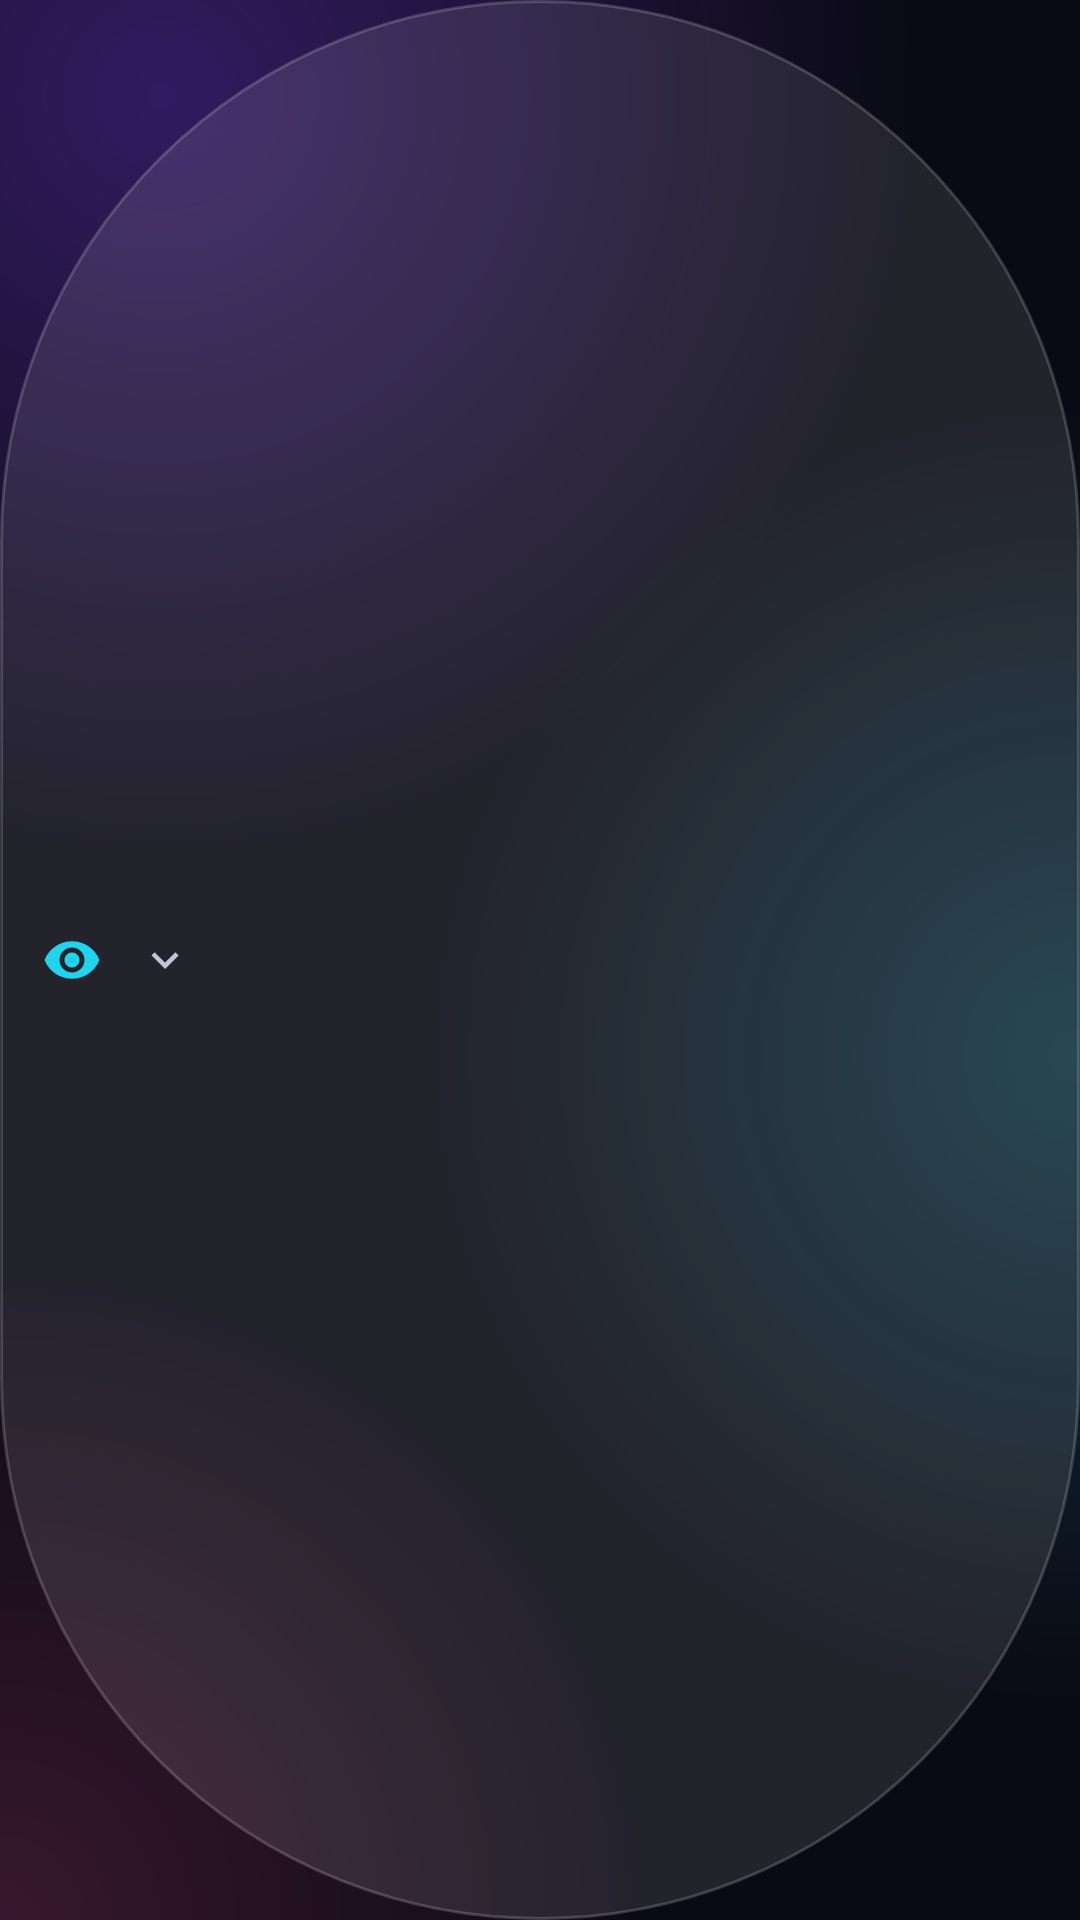

Icon click points for this 1080px×1920px phone screenshot, format point (x, y):
expand more: point (165, 960)
eye: point (72, 960)
